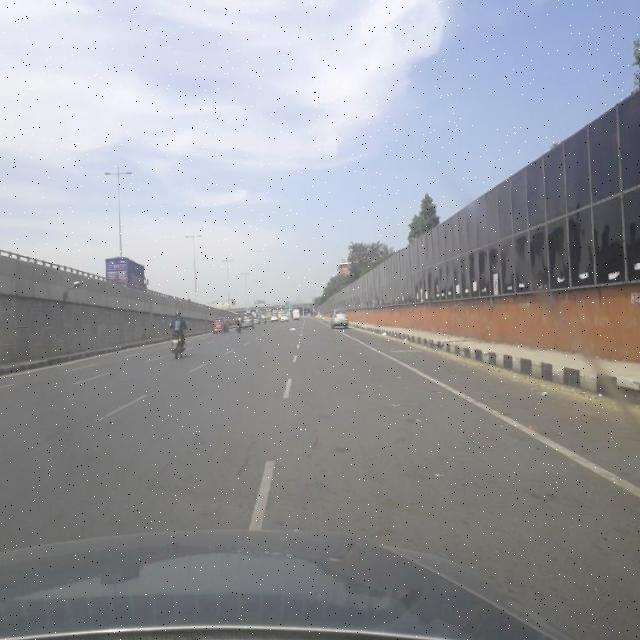D00: (234, 431, 258, 478)
